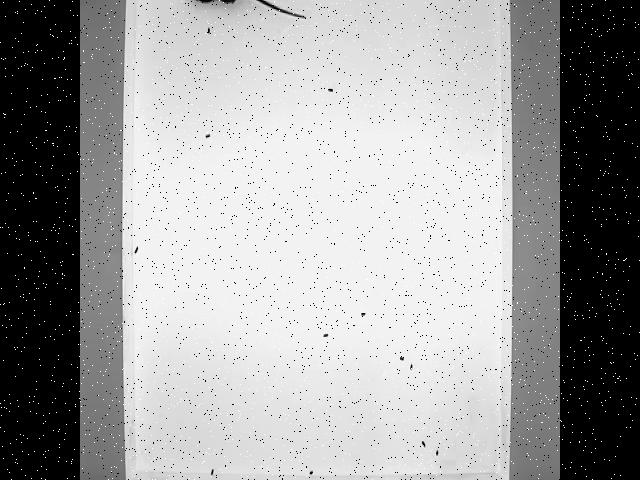Tikus: (180, 0, 308, 20)
